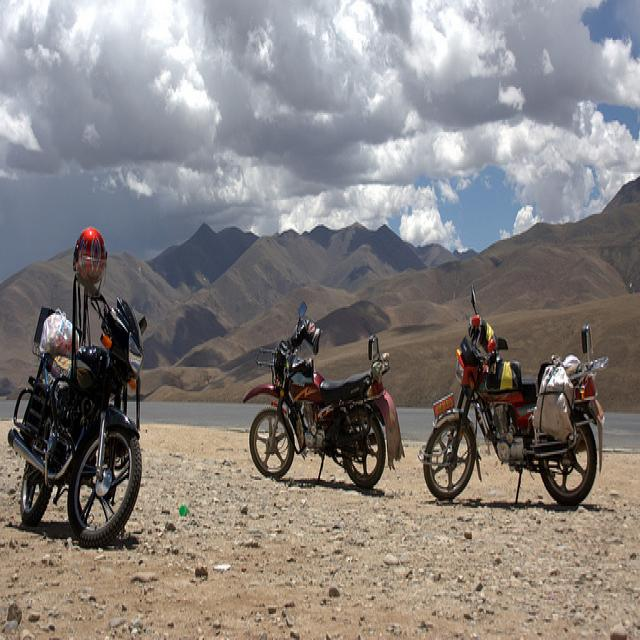motor: (420, 288, 608, 509), (13, 278, 147, 551), (245, 303, 404, 489)
